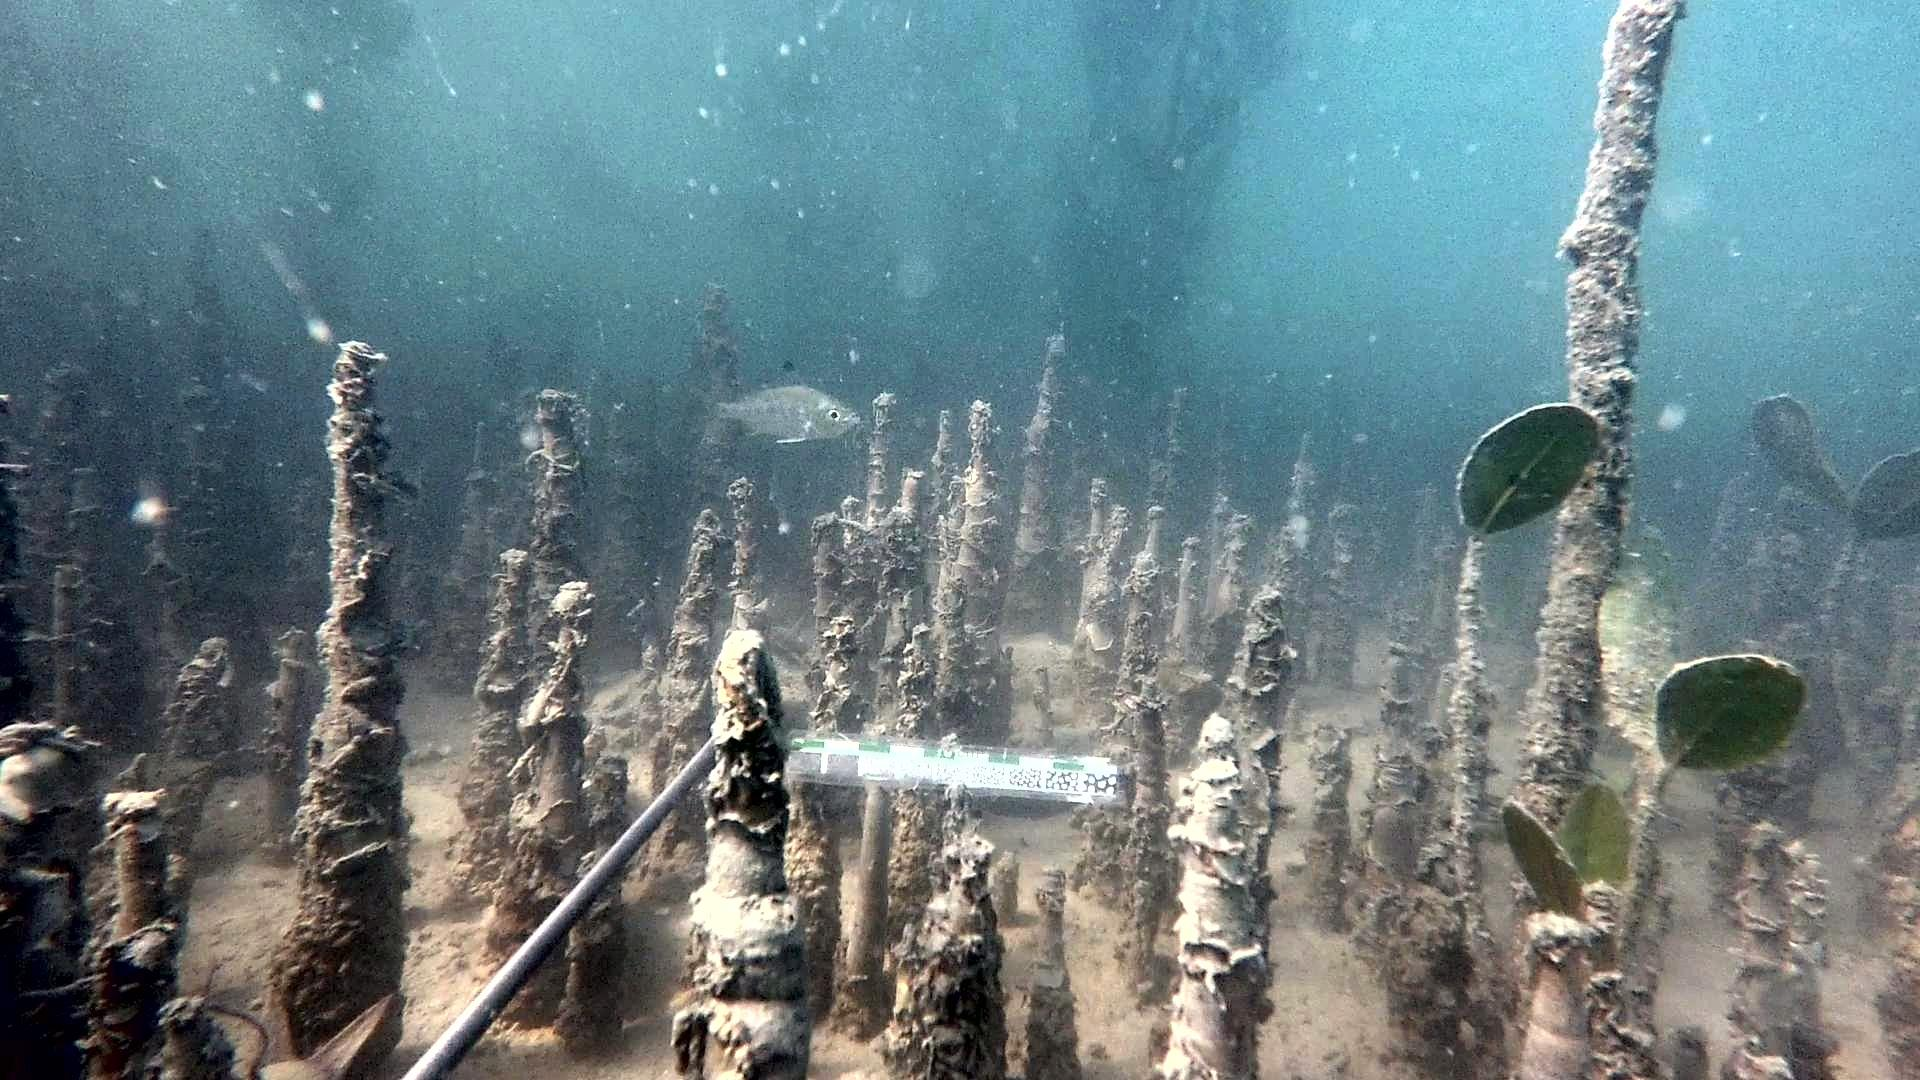gerres: (682, 360, 860, 446)
